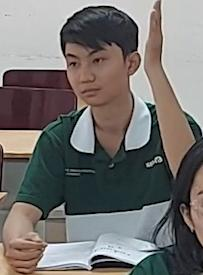Raising_Hand: (0, 0, 192, 275)
